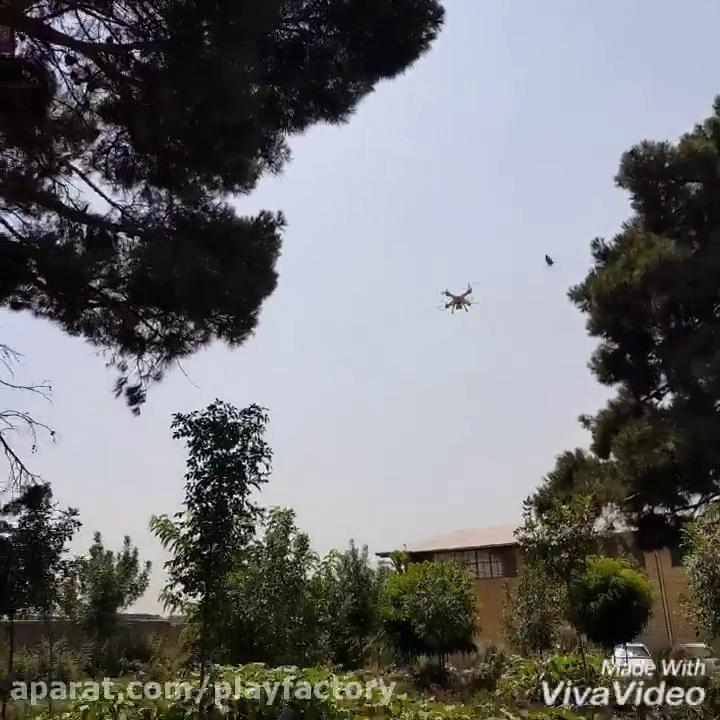drone: (432, 278, 482, 319)
